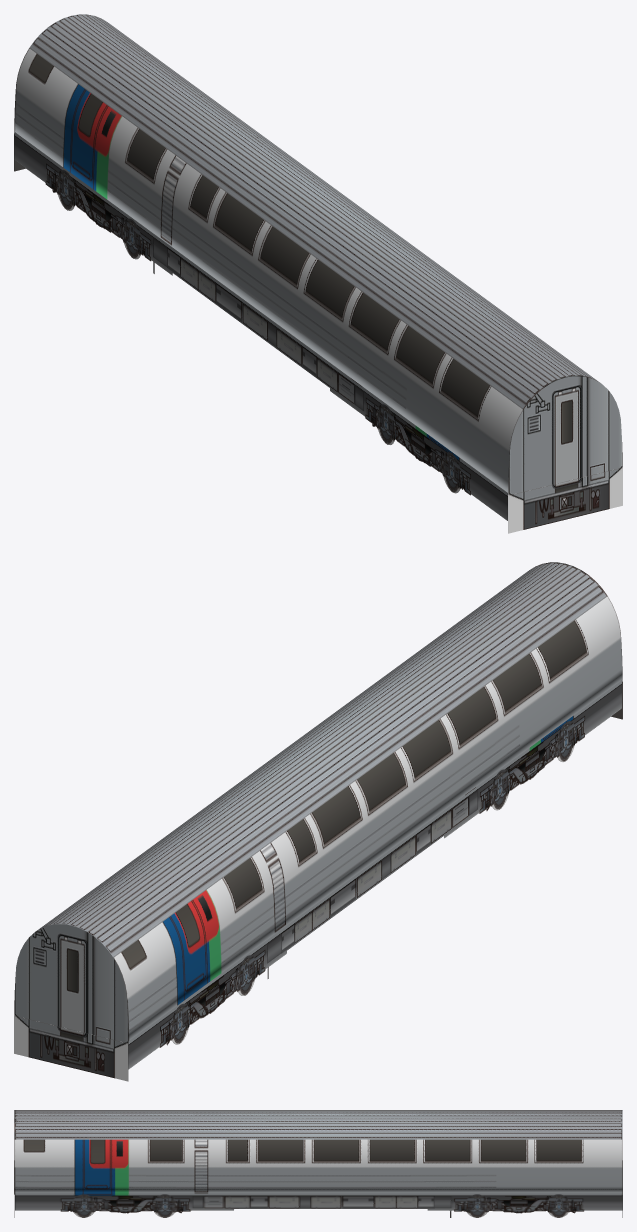
The model's file is car2.glb.
3 renders of one model, top to bottom at view 1: azimuth 30°, elevation 25°; view 2: azimuth 150°, elevation 25°; view 3: azimuth 270°, elevation 25°, orthographic. The views are drawn at different scales.
Parts seen in each view (by area): view 1: jr_hokkaido_kiha283_car2; view 2: jr_hokkaido_kiha283_car2; view 3: jr_hokkaido_kiha283_car2.
Part boxes in pixels (x1,y1,x2,y2): jr_hokkaido_kiha283_car2: [14, 14, 622, 533]; jr_hokkaido_kiha283_car2: [14, 562, 622, 1081]; jr_hokkaido_kiha283_car2: [14, 1110, 622, 1217].
Bounding box in the file's own units: 2.84 × 3.38 × 21.33.
6 materials, 5 textured.
